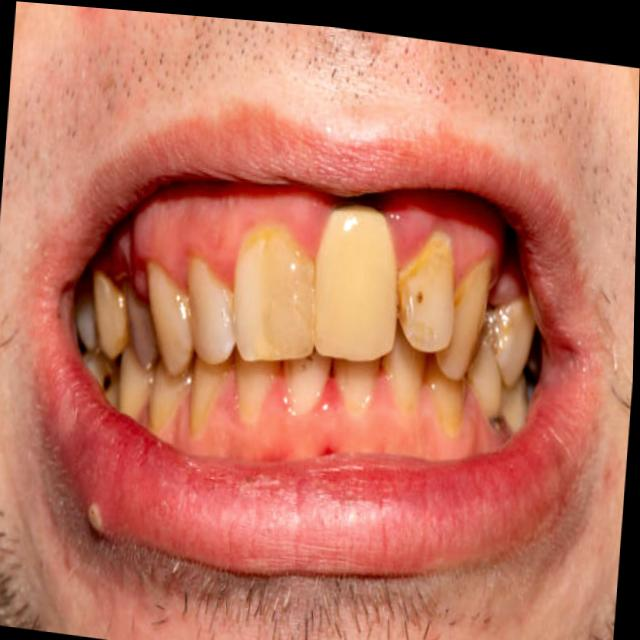gingivitis: (115, 183, 340, 296), (133, 394, 503, 461), (367, 192, 504, 286)
